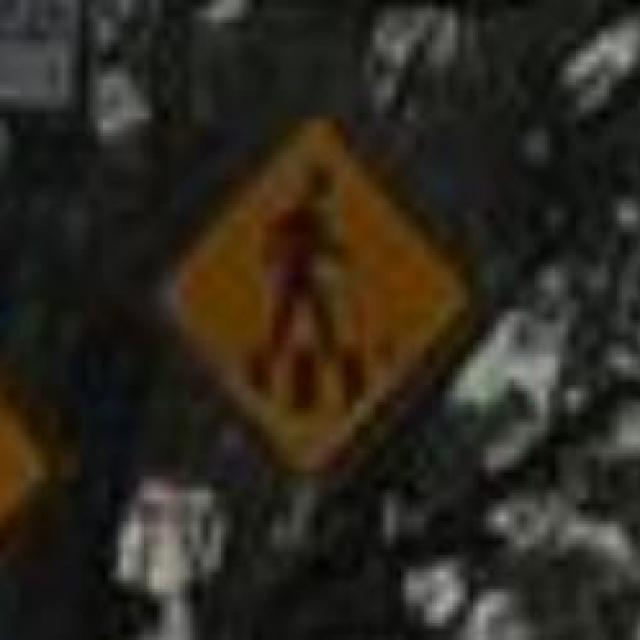traffic sign: (188, 136, 458, 453)
